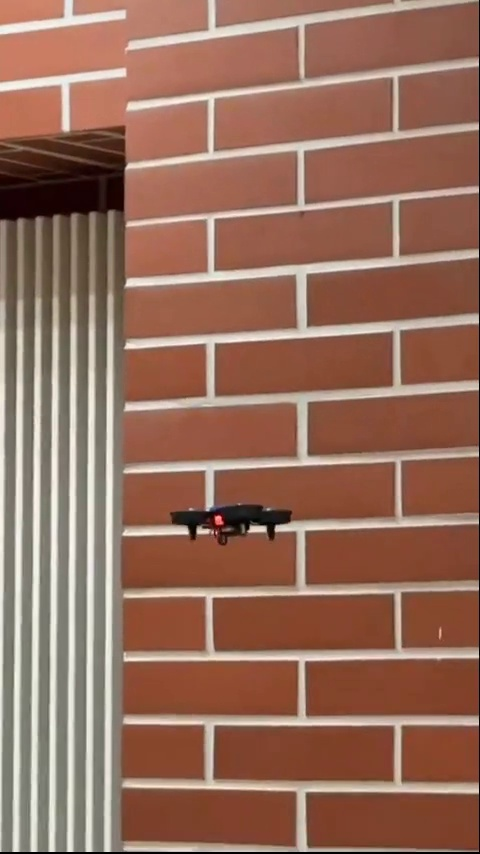drone: (172, 501, 299, 551)
